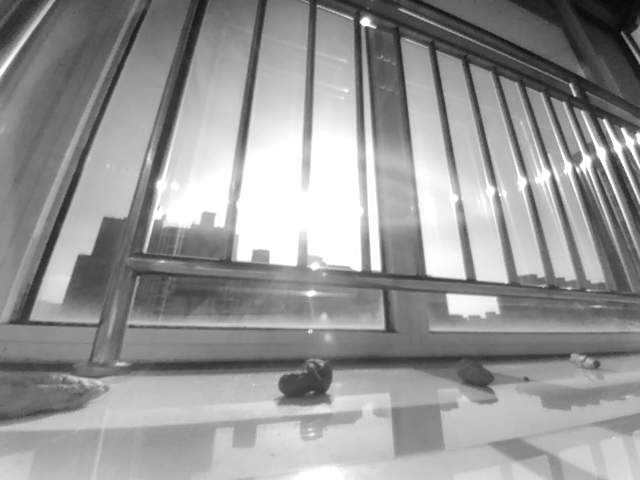pet feces: (1, 368, 115, 423), (277, 357, 334, 399), (453, 357, 493, 388), (568, 351, 602, 371)
